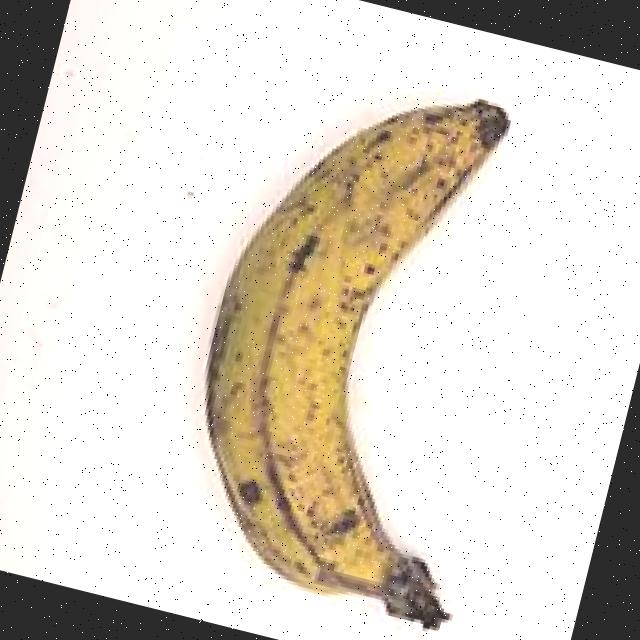Overripe: (91, 1, 640, 640)
